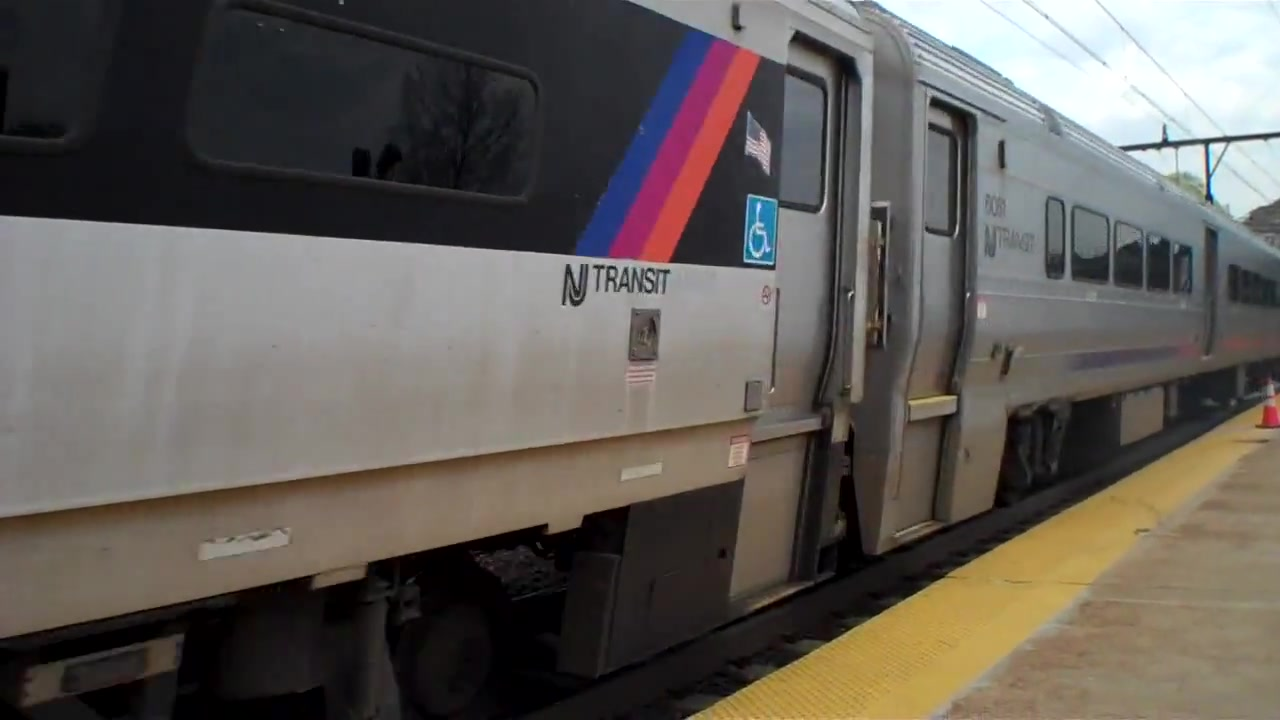train: (1, 1, 1280, 720)
